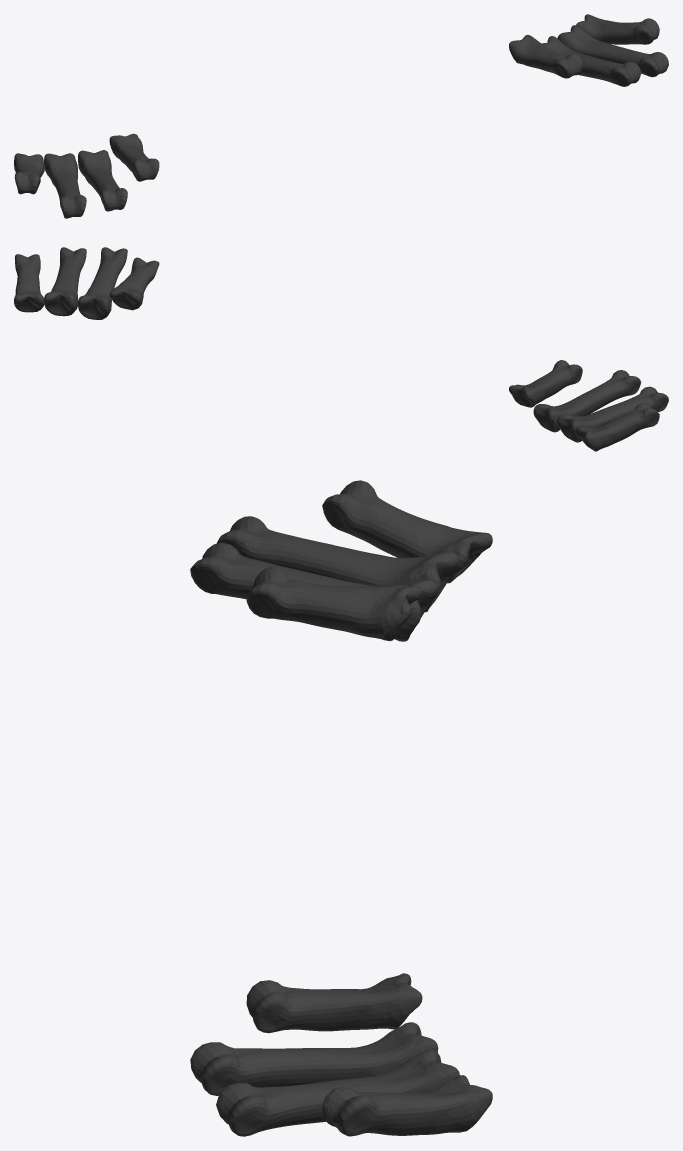
3 renders of one model, top to bottom at view 1: azimuth 30°, elevation 25°; view 2: azimuth 150°, elevation 25°; view 3: azimuth 270°, elevation 25°, orthographic. The views are drawn at different scales.
Parts seen in each view (by area): view 1: HL_P1_1; view 2: HL_P1_1; view 3: HL_P1_1.
Part boxes in pixels (left/top/right/bottom): HL_P1_1: left=14, top=14, right=668, bottom=218; HL_P1_1: left=14, top=247, right=668, bottom=451; HL_P1_1: left=190, top=480, right=492, bottom=1136.
Size of the model in its own units: 0.00692 by 0.000406 by 0.00141.
1 material, 1 textured.
